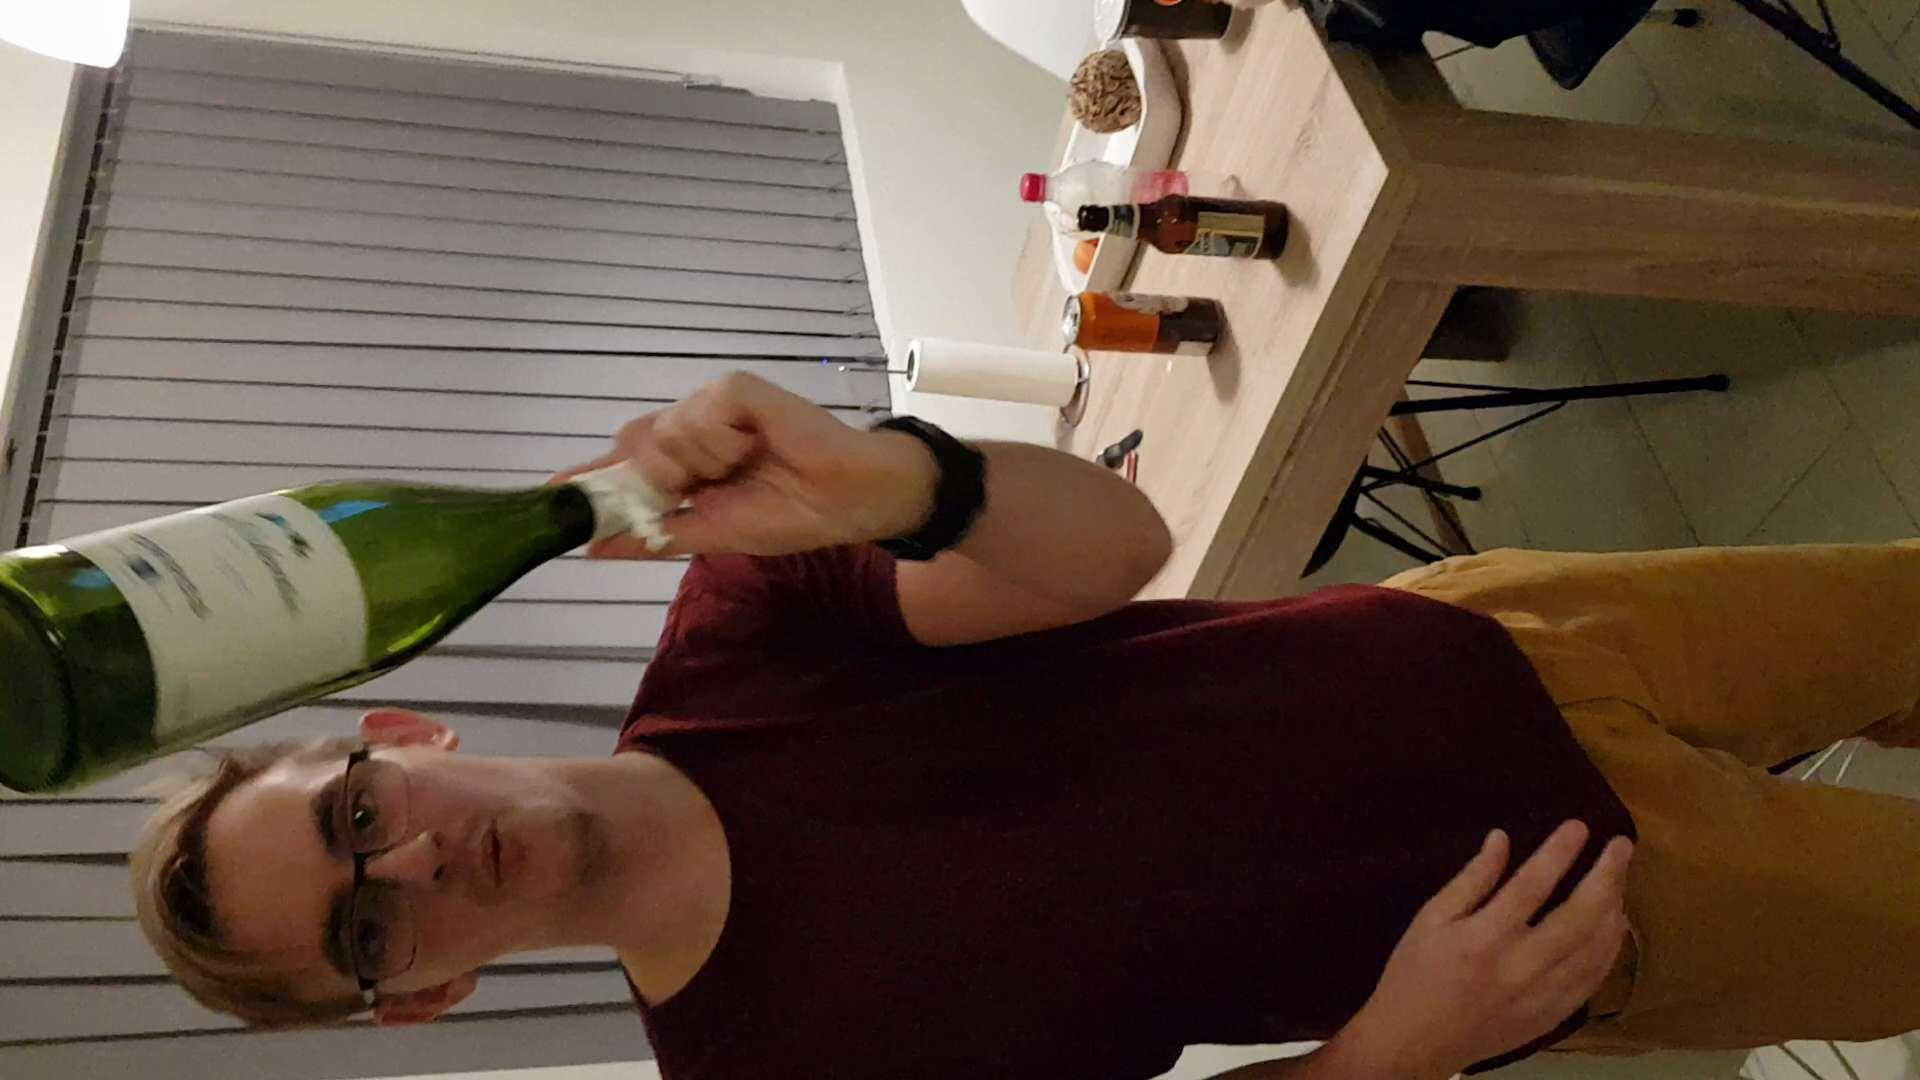Bottle: (0, 444, 673, 814)
